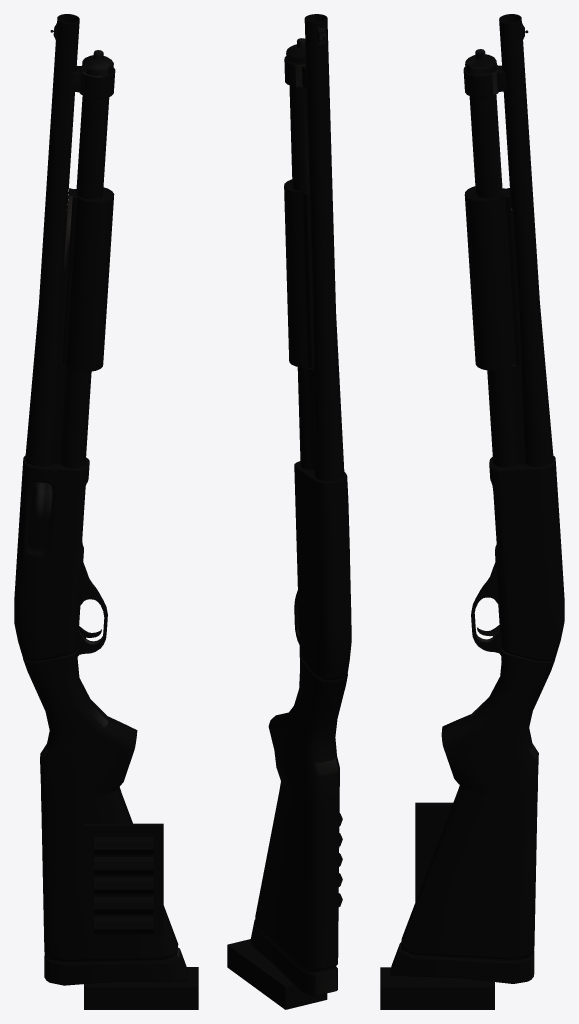
Rendered from Rem870__RecoilPad_Rubber__ShellHolder_Butt.fbx.
3 views of the same model, side by side, from view 1: azimuth 90°, elevation 25°; view 2: azimuth 210°, elevation 25°; view 3: azimuth 270°, elevation 25° (orthographic).
Parts seen in each view (by area): view 1: asset_Rem870.001; view 2: asset_Rem870.001; view 3: asset_Rem870.001.
Part boxes in pixels (bbox=[...]): asset_Rem870.001: bbox=[14, 14, 198, 1009]; asset_Rem870.001: bbox=[227, 14, 351, 1009]; asset_Rem870.001: bbox=[380, 14, 564, 1009].
Size of the model in its own units: 0.0429 by 0.651 by 0.1108.
